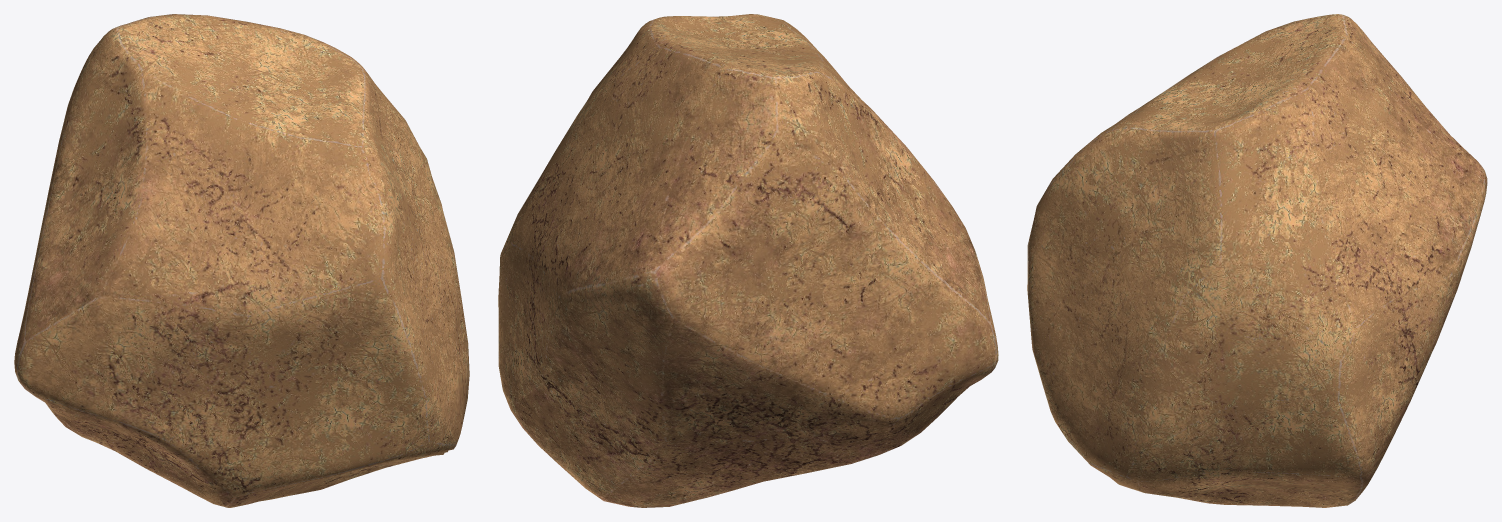
3 renders of one model, left to right at view 1: azimuth 30°, elevation 25°; view 2: azimuth 150°, elevation 25°; view 3: azimuth 270°, elevation 25°, orthographic. The views are drawn at different scales.
Visible parts, largest first — view 1: rock_01; view 2: rock_01; view 3: rock_01.
Boxes of the visible parts, x1,y1,x2,y2 form: rock_01: (14,14,469,507); rock_01: (498,14,998,507); rock_01: (1027,14,1487,507).
Size of the model in its own units: 1.95 by 2 by 1.95.
1 material, 1 textured.
